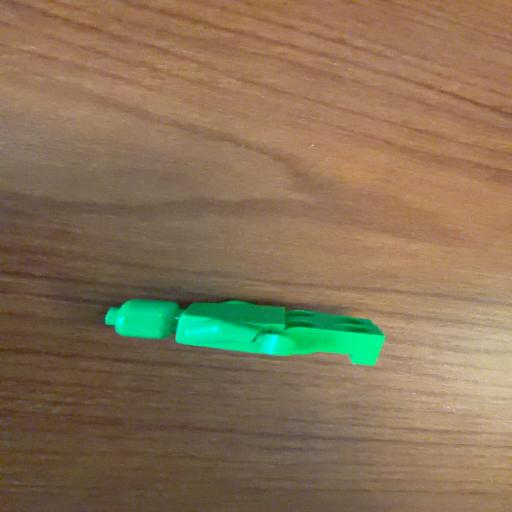UnoQ-minifig-detector: (106, 299, 385, 366)
